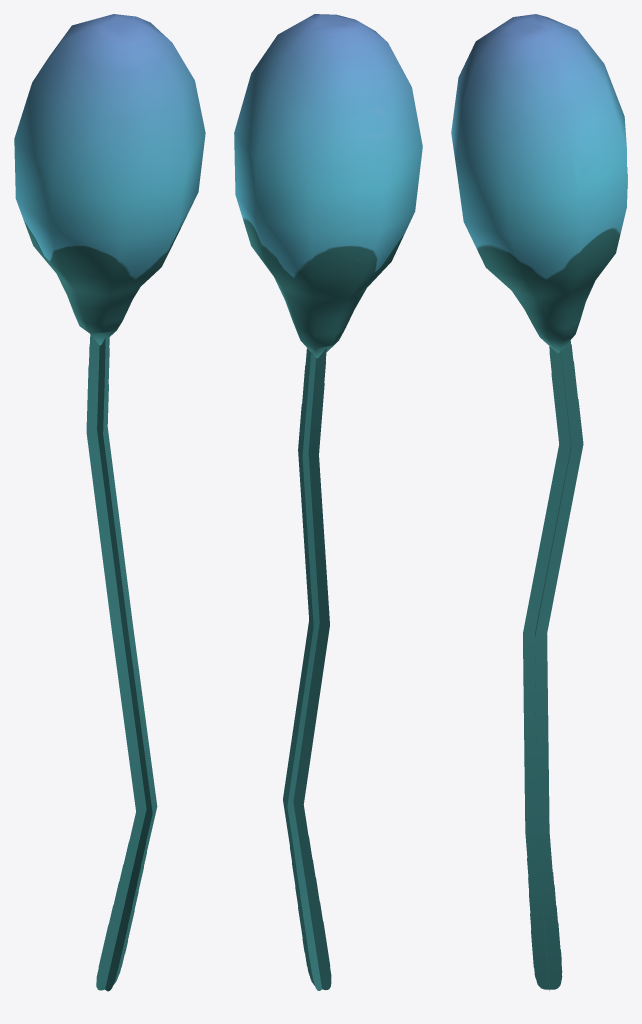
The model's file is GlowFlower01_GR.fbx.
3 renders of one model, left to right at view 1: azimuth 30°, elevation 25°; view 2: azimuth 150°, elevation 25°; view 3: azimuth 270°, elevation 25°, orthographic.
Parts seen in each view (by area): view 1: GlowBulb01_LP2; view 2: GlowBulb01_LP2; view 3: GlowBulb01_LP2.
Part boxes in pixels (<box>): GlowBulb01_LP2: <box>14,14,205,991</box>; GlowBulb01_LP2: <box>234,14,422,990</box>; GlowBulb01_LP2: <box>451,14,627,990</box>.
Bounding box in the file's own units: 0.1642 × 0.9906 × 0.1623.
1 material, 1 textured.
